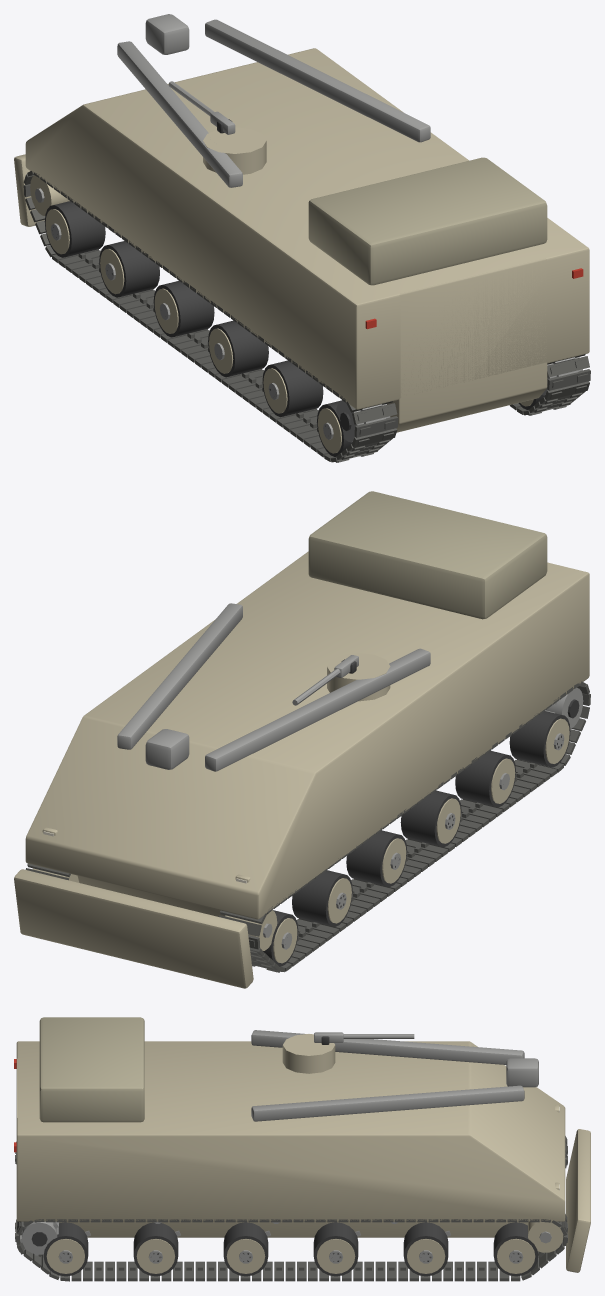
The model's file is usa_eng_m88.glb.
The picture shows the model from 3 angles, top to bottom: view 1: azimuth 30°, elevation 25°; view 2: azimuth 150°, elevation 25°; view 3: azimuth 270°, elevation 25°; orthographic projection. The views are drawn at different scales.
Visible parts, largest first — view 1: body, turret, barrel; view 2: body, turret, barrel; view 3: body, turret, barrel.
Part boxes in pixels (x1=…): body: x1=14, y1=14, x2=590, y2=462; turret: x1=203, y1=127, x2=266, y2=174; barrel: x1=168, y1=81, x2=235, y2=134; body: x1=14, y1=491, x2=590, y2=988; turret: x1=327, y1=653, x2=390, y2=701; barrel: x1=292, y1=655, x2=358, y2=705; body: x1=14, y1=1017, x2=590, y2=1281; turret: x1=282, y1=1034, x2=335, y2=1073; barrel: x1=314, y1=1032, x2=414, y2=1044.
Size of the model in its own units: 3.4 by 3.08 by 8.78.
